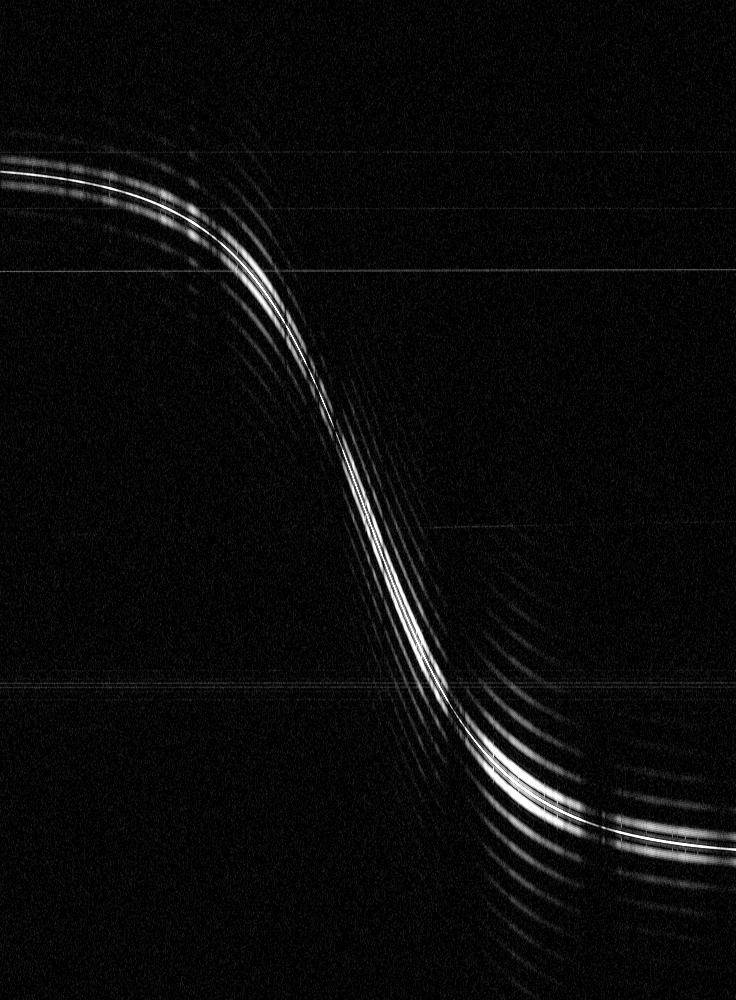signal: (0, 0, 735, 999)
